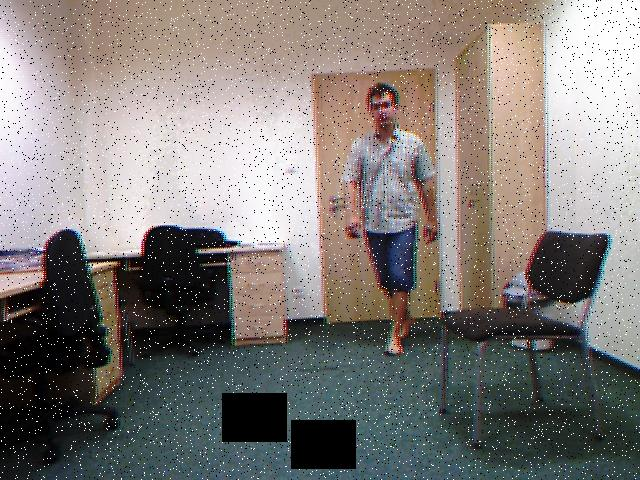walking: (343, 78, 456, 363)
